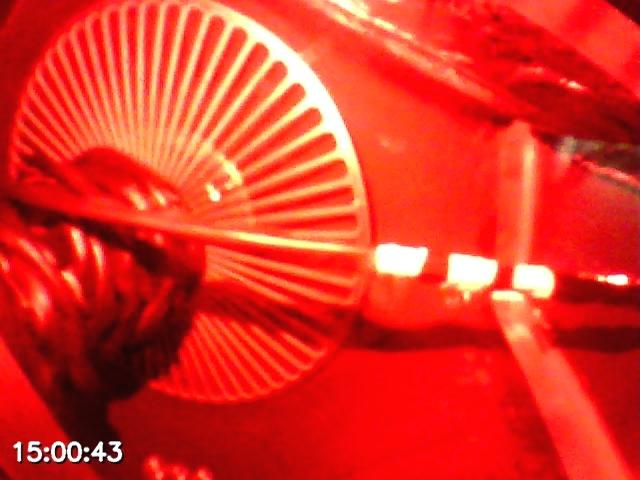white-dots: (373, 243, 555, 299)
